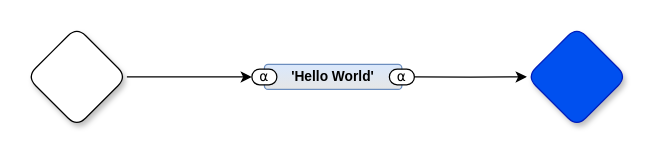
The diagram is 656 pixels wide and 158 high, and some of its shapes have lost their labels. The centre of each missing label's shape, as x and y in pixels:
"input" belongs at [77,78].
"output" belongs at [577,78].
